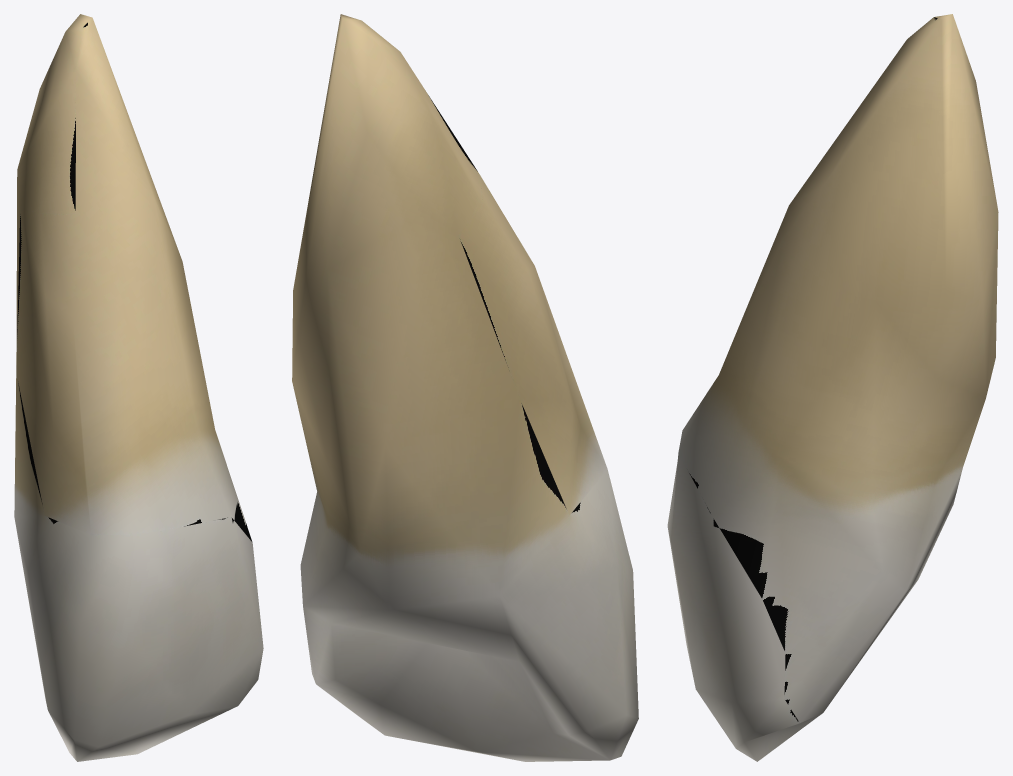
The picture shows the model from 3 angles, left to right: view 1: azimuth 30°, elevation 25°; view 2: azimuth 150°, elevation 25°; view 3: azimuth 270°, elevation 25°; orthographic projection. The views are drawn at different scales.
Parts seen in each view (by area): view 1: Object_2; view 2: Object_2; view 3: Object_2.
Part boxes in pixels (x1,y1,x2,y2): Object_2: (14, 14, 263, 761); Object_2: (292, 14, 638, 761); Object_2: (667, 14, 998, 761).
Bounding box in the file's own units: 0.3182 × 0.8711 × 0.3603.
1 material, 1 textured.
